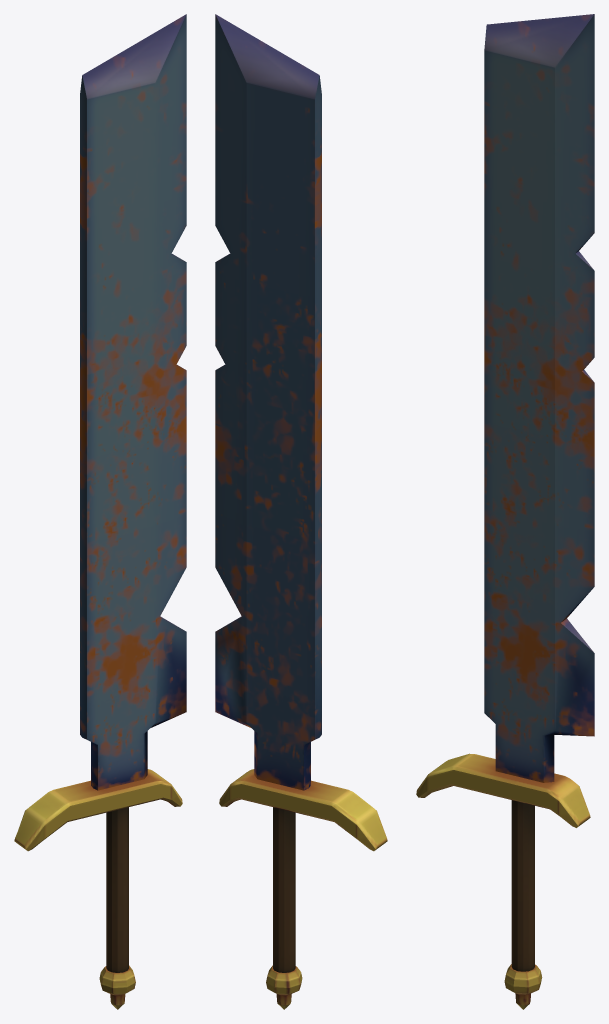
Rendered from hero_chopper.fbx.
3 renders of one model, left to right at view 1: azimuth 30°, elevation 25°; view 2: azimuth 150°, elevation 25°; view 3: azimuth 330°, elevation 25°, orthographic. The views are drawn at different scales.
Parts seen in each view (by area): view 1: polySurface8; view 2: polySurface8; view 3: polySurface8.
Boxes of the visible parts, x1,y1,x2,y2 form: polySurface8: (14,14,186,1009); polySurface8: (215,14,387,1009); polySurface8: (416,14,594,1009).
Size of the model in its own units: 58.86 by 330 by 12.08.
